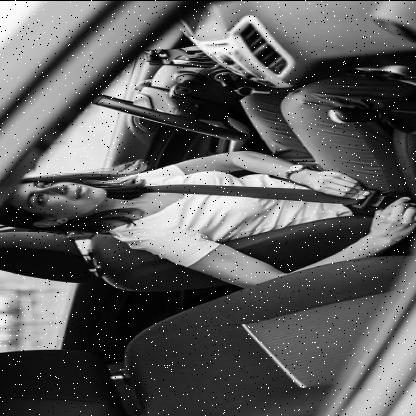seatbelt: (1, 165, 335, 234)
